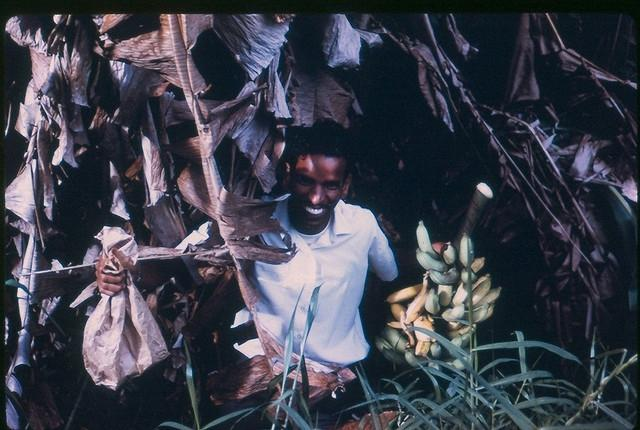banana: (416, 220, 445, 262), (406, 273, 428, 318), (416, 247, 454, 273), (464, 274, 492, 308), (406, 290, 430, 324), (385, 283, 423, 304), (428, 263, 461, 286), (472, 286, 502, 310), (458, 232, 475, 269), (464, 302, 490, 324), (414, 316, 436, 342), (400, 310, 415, 346), (450, 282, 470, 308), (442, 333, 462, 358), (439, 303, 465, 322), (424, 288, 440, 314), (437, 284, 453, 308), (389, 303, 407, 322), (443, 245, 459, 265), (415, 340, 433, 357), (472, 273, 489, 291), (461, 266, 478, 284), (461, 328, 475, 348), (442, 322, 464, 333), (428, 342, 442, 359), (470, 258, 484, 274)
